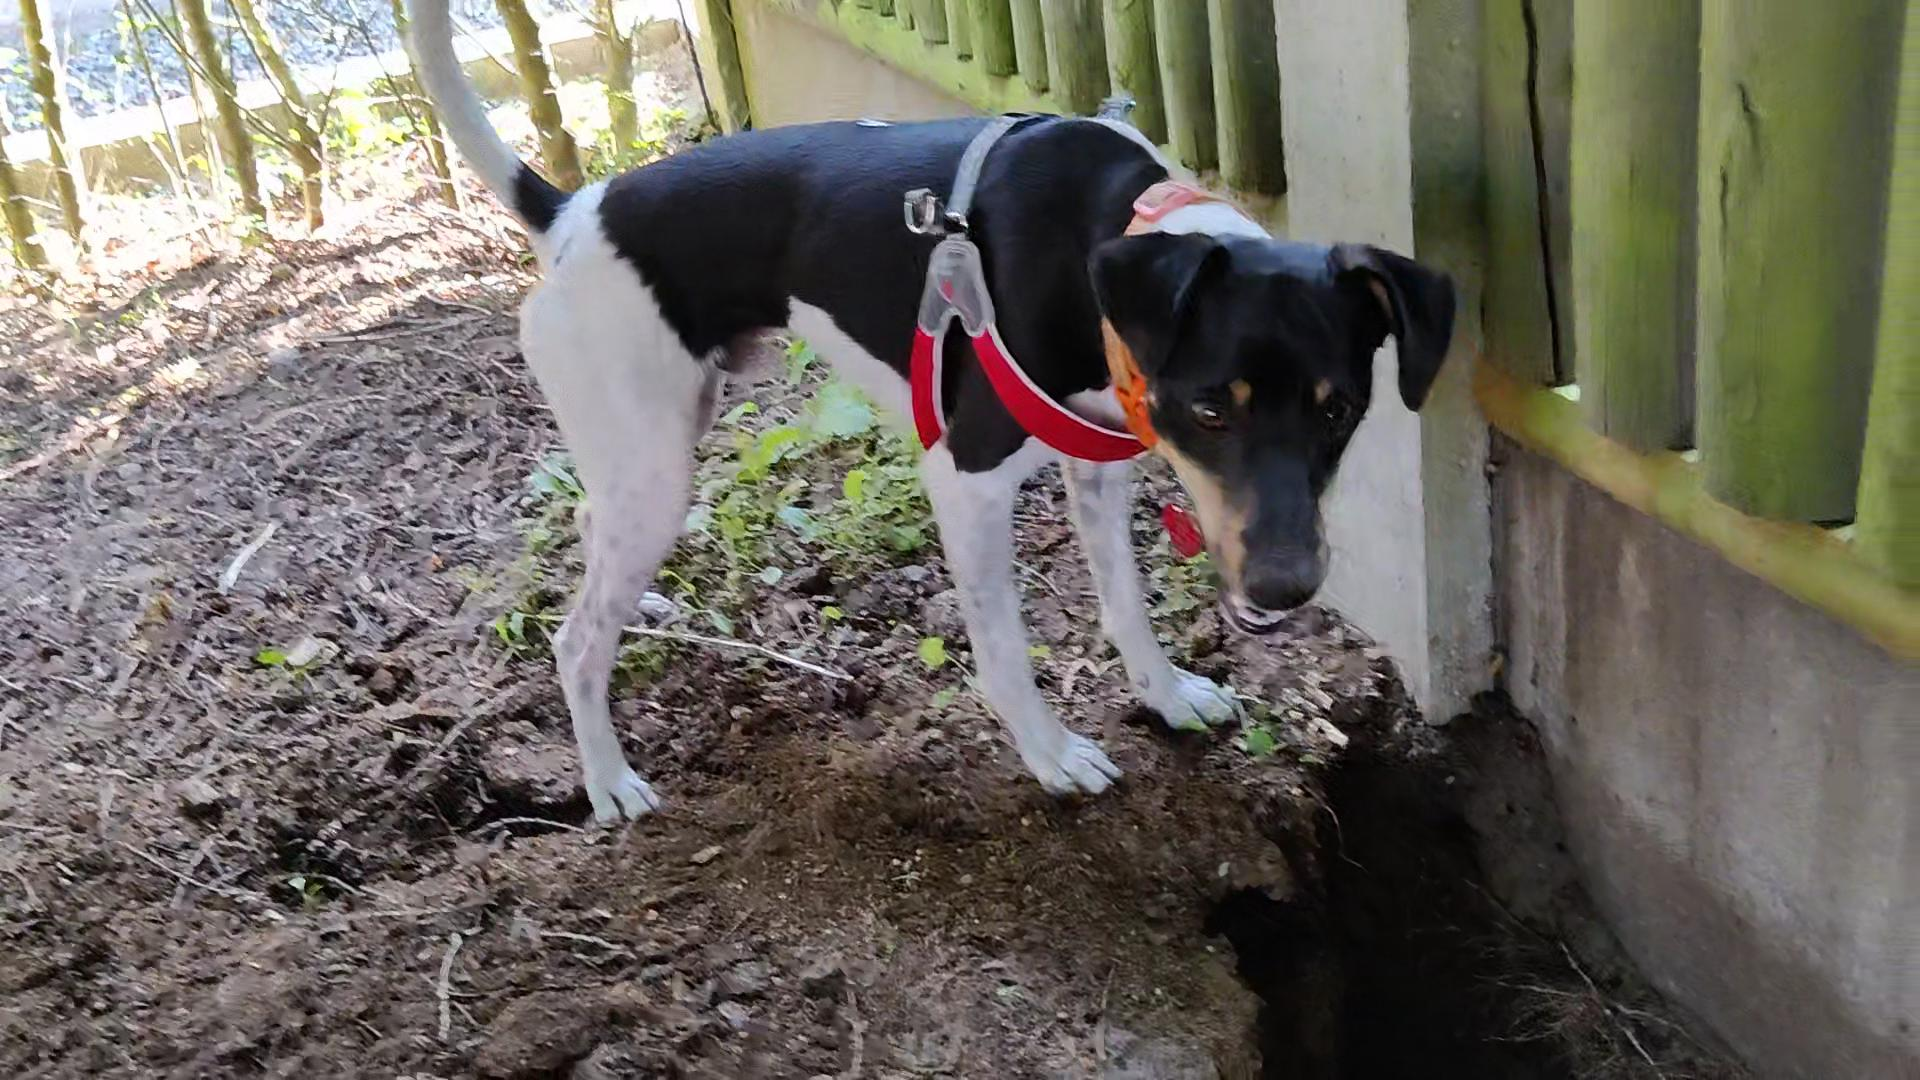Dog: (378, 0, 1493, 843)
